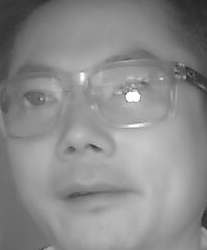eye: (20, 86, 59, 110)
glass: (86, 57, 176, 125), (1, 72, 69, 138)
mouth: (56, 177, 130, 214)
